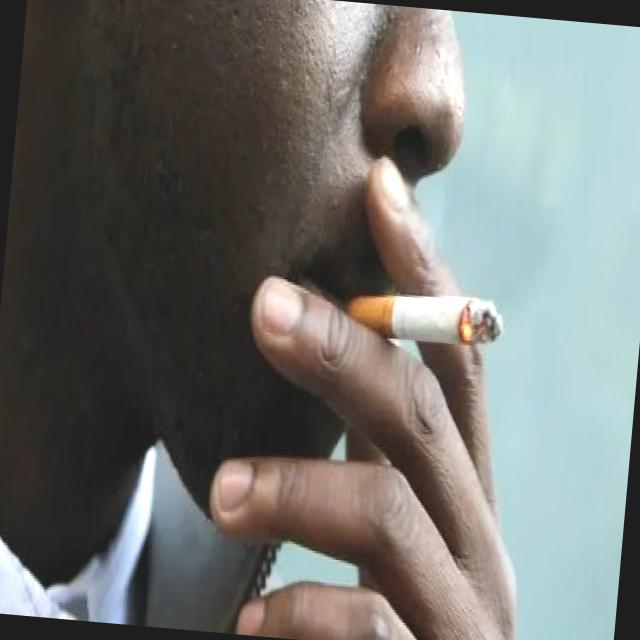smoke: (334, 286, 506, 354)
